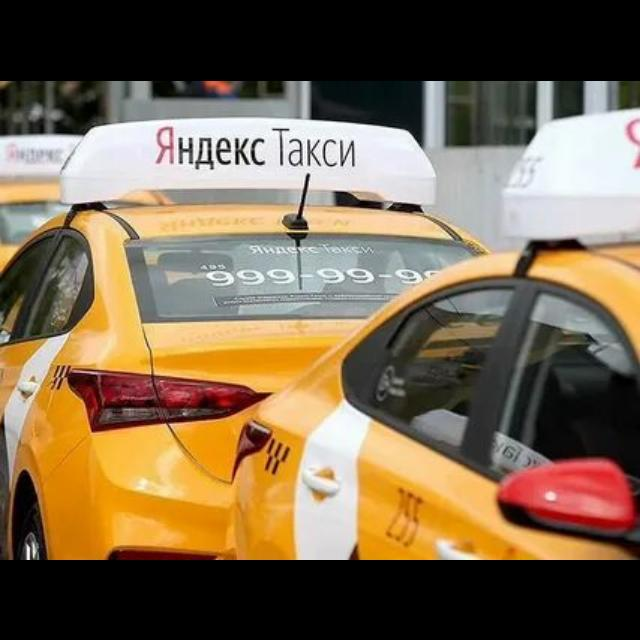taxi: (2, 116, 495, 559), (229, 107, 639, 559)
